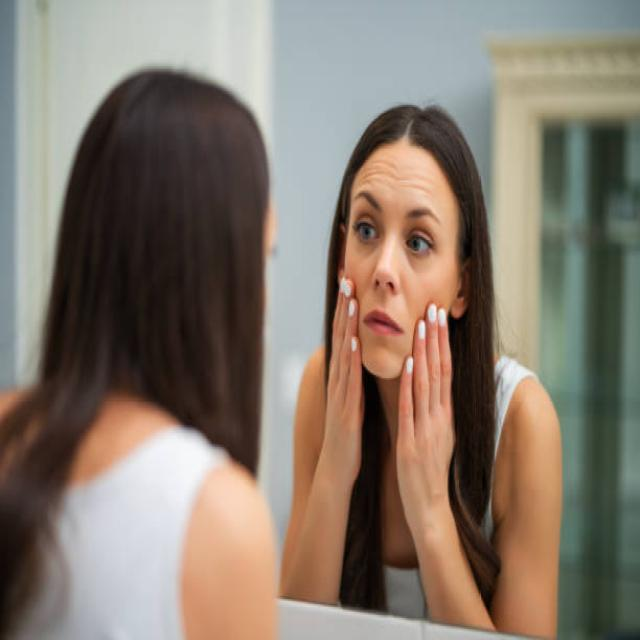Dry-Skin: (354, 154, 446, 210)
